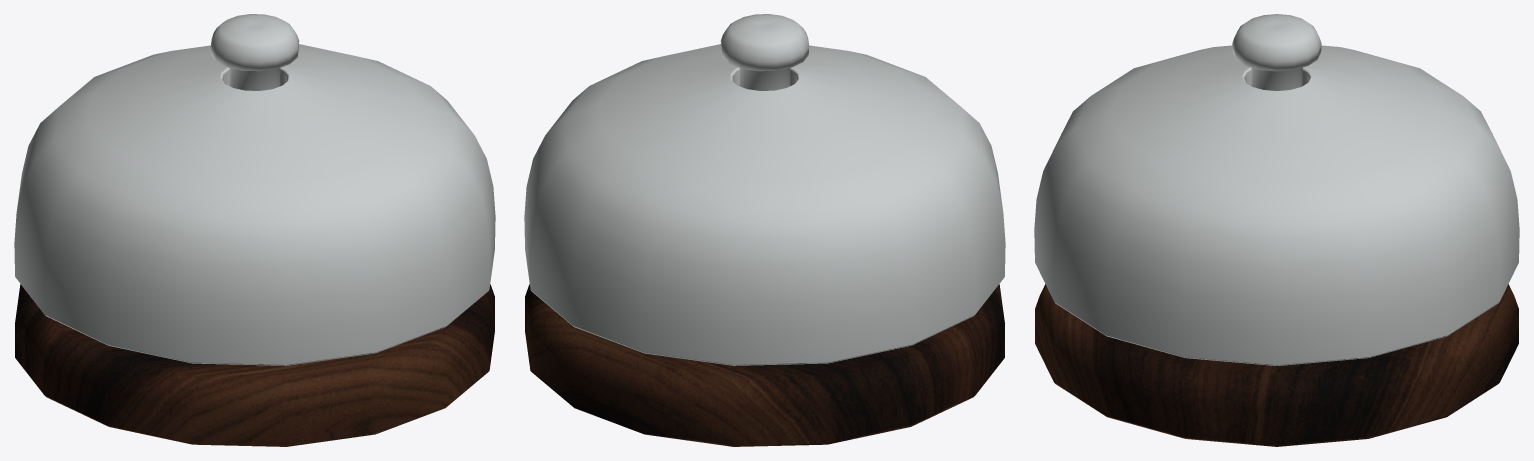
Rendered from bridge-bell.glb.
3 views of the same model, side by side, from view 1: azimuth 30°, elevation 25°; view 2: azimuth 150°, elevation 25°; view 3: azimuth 270°, elevation 25° (orthographic).
Visible parts, largest first — view 1: Object_2, Object_3; view 2: Object_2, Object_3; view 3: Object_2, Object_3.
Part boxes in pixels (<box>): Object_2: <box>14,44,495,446</box>; Object_3: <box>210,14,299,90</box>; Object_2: <box>524,44,1005,446</box>; Object_3: <box>720,14,809,90</box>; Object_2: <box>1034,45,1519,446</box>; Object_3: <box>1232,14,1321,90</box>.
Size of the model in its own units: 0.0826 by 0.0603 by 0.0826.
Materials: 2 (2 with a texture image).
